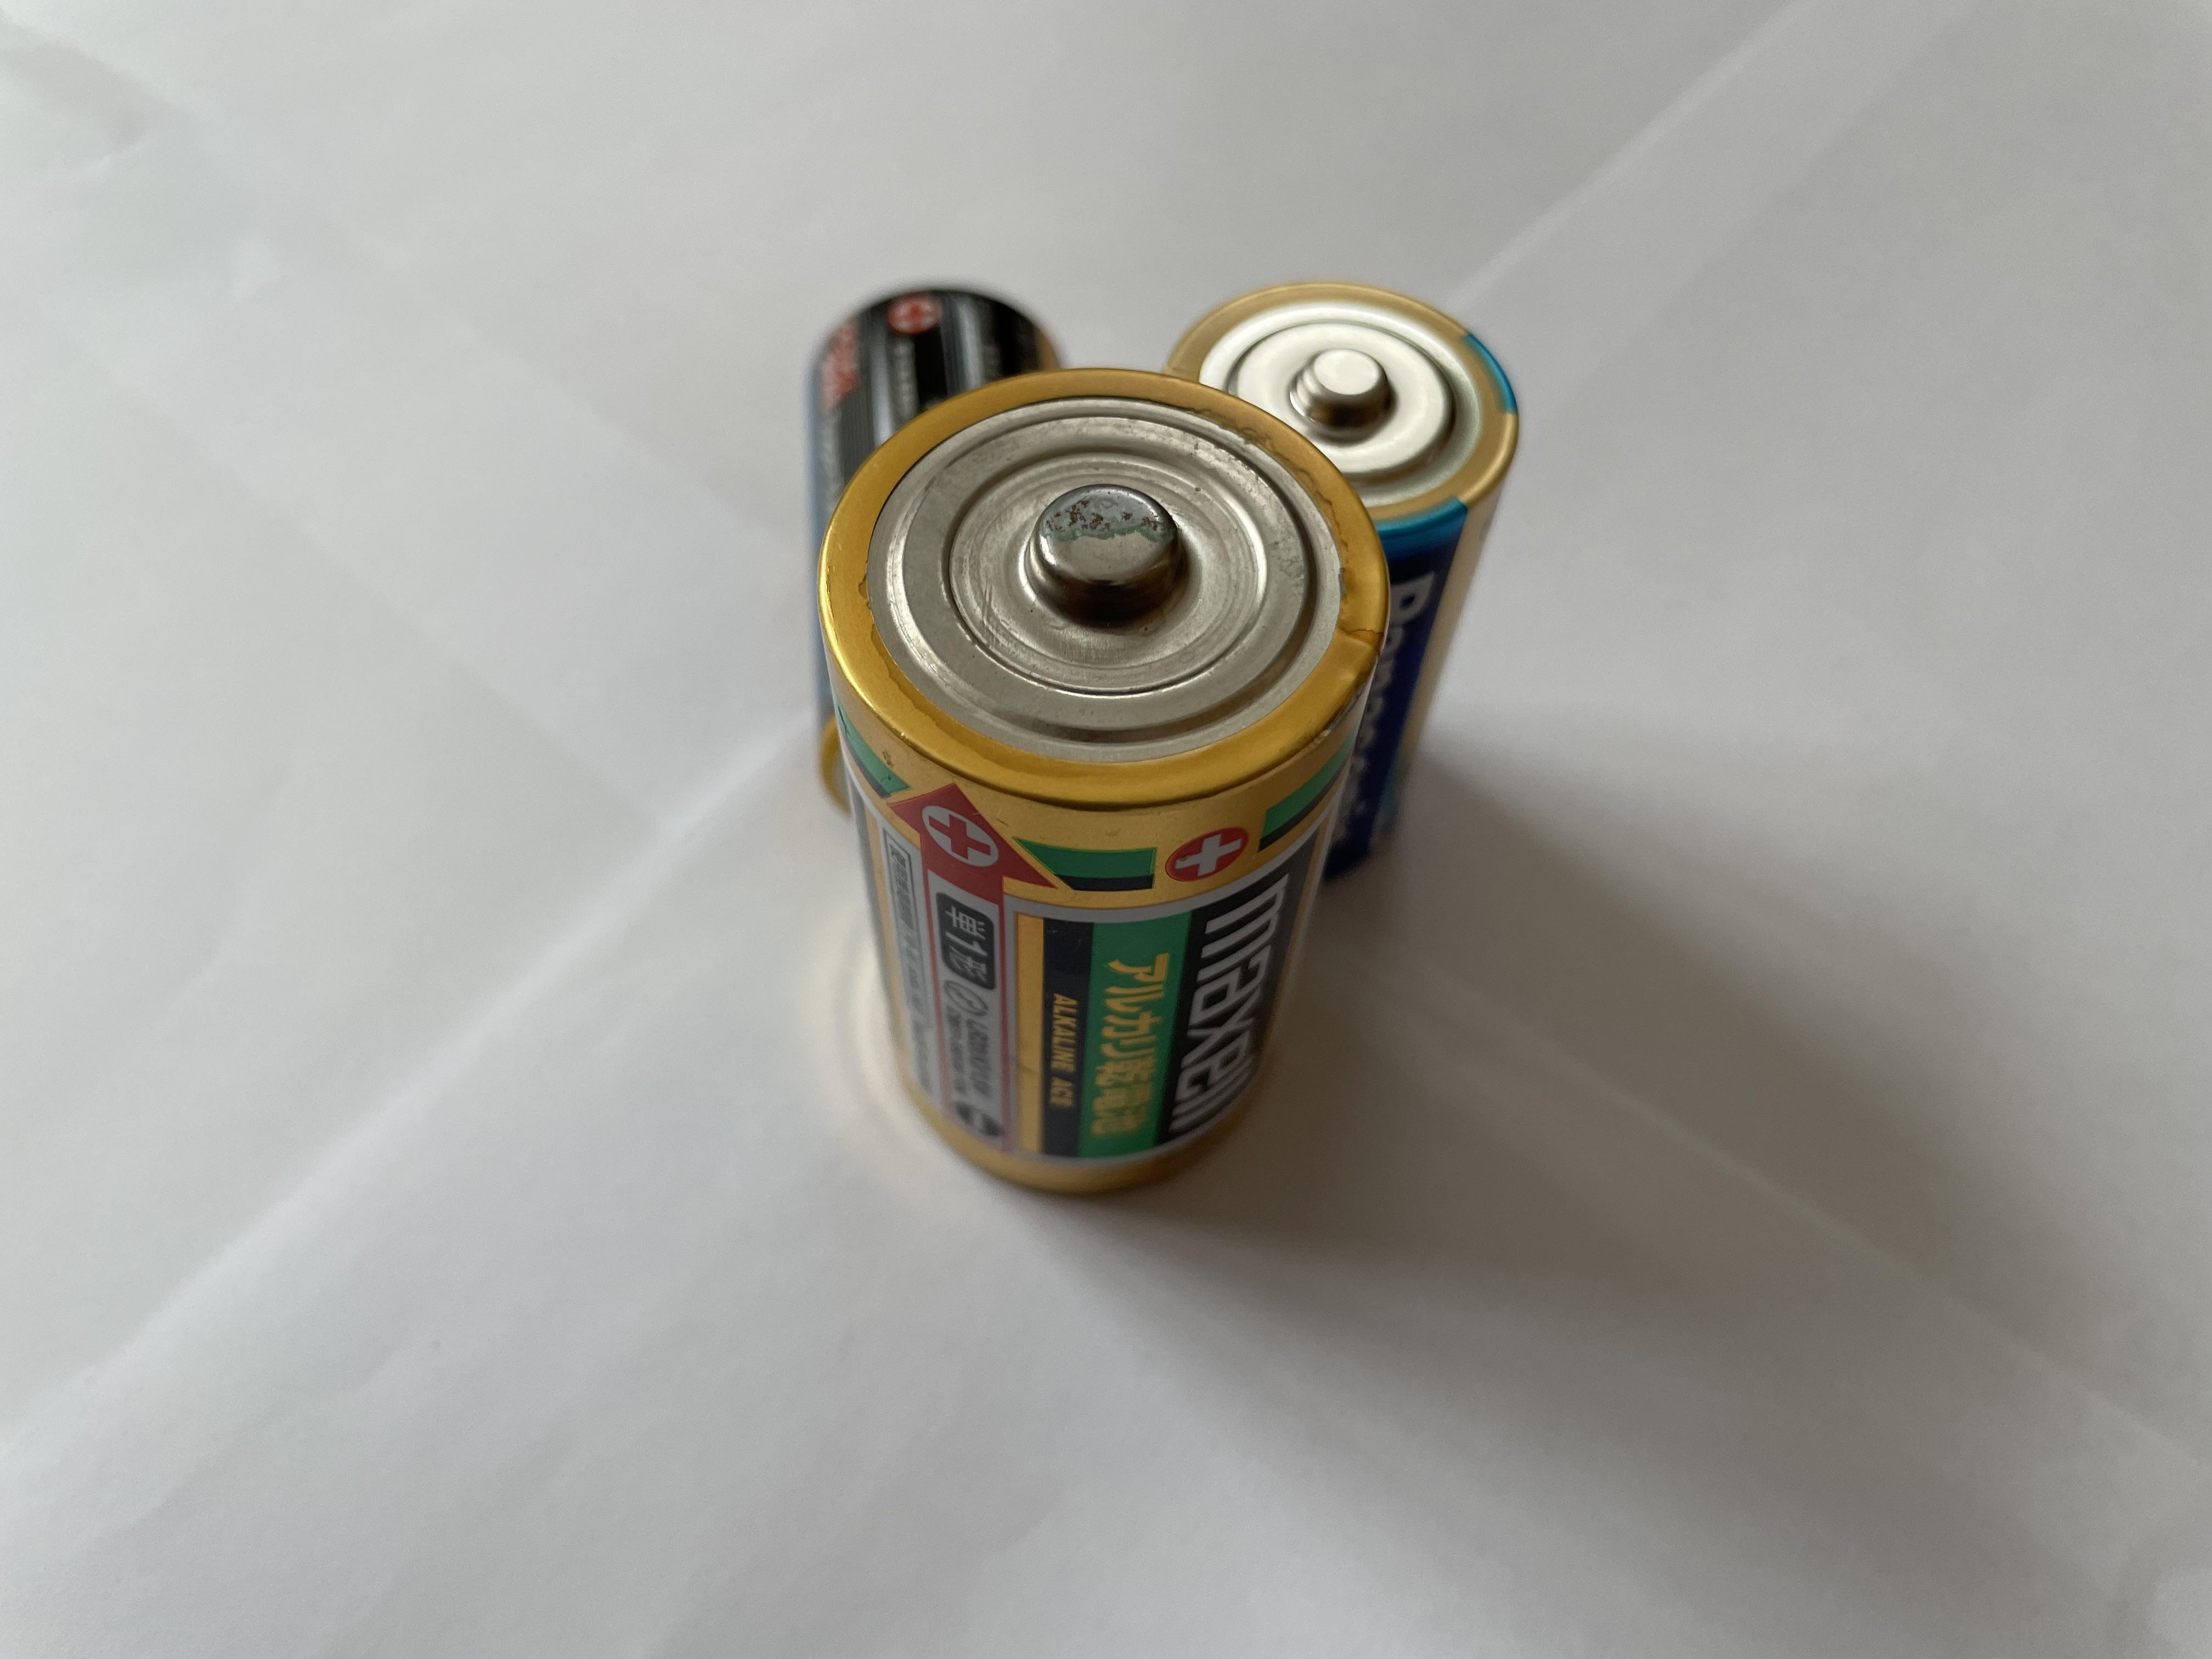Battery: (826, 364, 1388, 1211)
